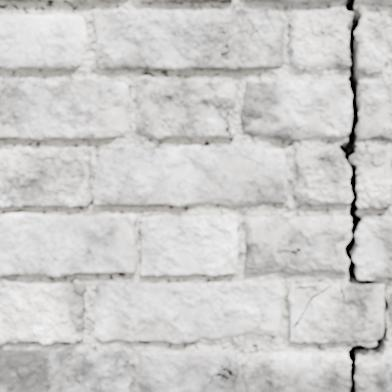brick: (0, 146, 287, 207), (92, 9, 284, 71), (95, 280, 283, 342), (0, 213, 137, 276), (0, 79, 129, 139), (136, 77, 236, 138), (140, 214, 237, 274), (0, 348, 131, 391), (291, 284, 382, 342), (0, 281, 85, 342), (0, 14, 86, 70), (138, 350, 238, 391), (288, 283, 322, 324), (205, 377, 235, 391), (140, 0, 231, 2), (229, 105, 234, 134), (84, 0, 112, 2)
broken_brick: (239, 78, 350, 141), (242, 214, 350, 275), (243, 351, 349, 391), (289, 7, 350, 72), (294, 144, 349, 205), (353, 147, 391, 208), (355, 218, 391, 280), (357, 82, 391, 141), (356, 15, 389, 75), (357, 353, 391, 391), (244, 0, 343, 3), (356, 0, 391, 7)
crack: (336, 0, 389, 391), (292, 283, 332, 329), (202, 364, 237, 391), (209, 99, 233, 136), (339, 284, 353, 310), (71, 373, 86, 391), (138, 216, 143, 226), (0, 87, 5, 93)
